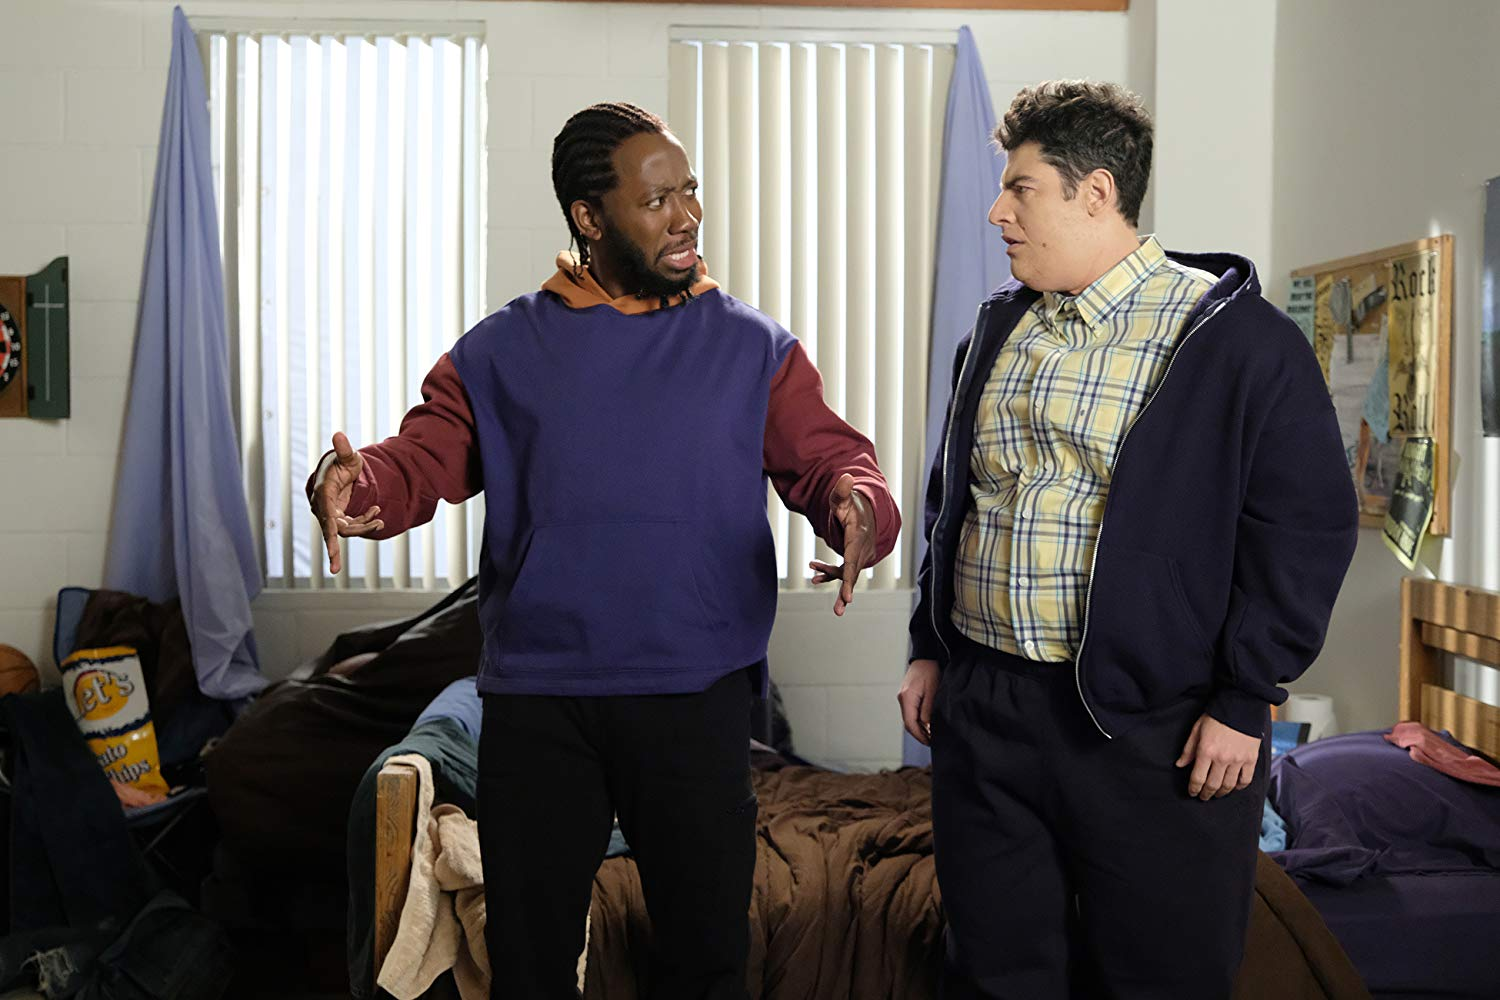person: (302, 93, 836, 991), (892, 69, 1310, 999)
